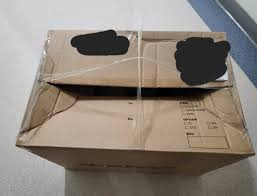damaged package: (47, 83, 223, 103), (21, 85, 76, 138)
